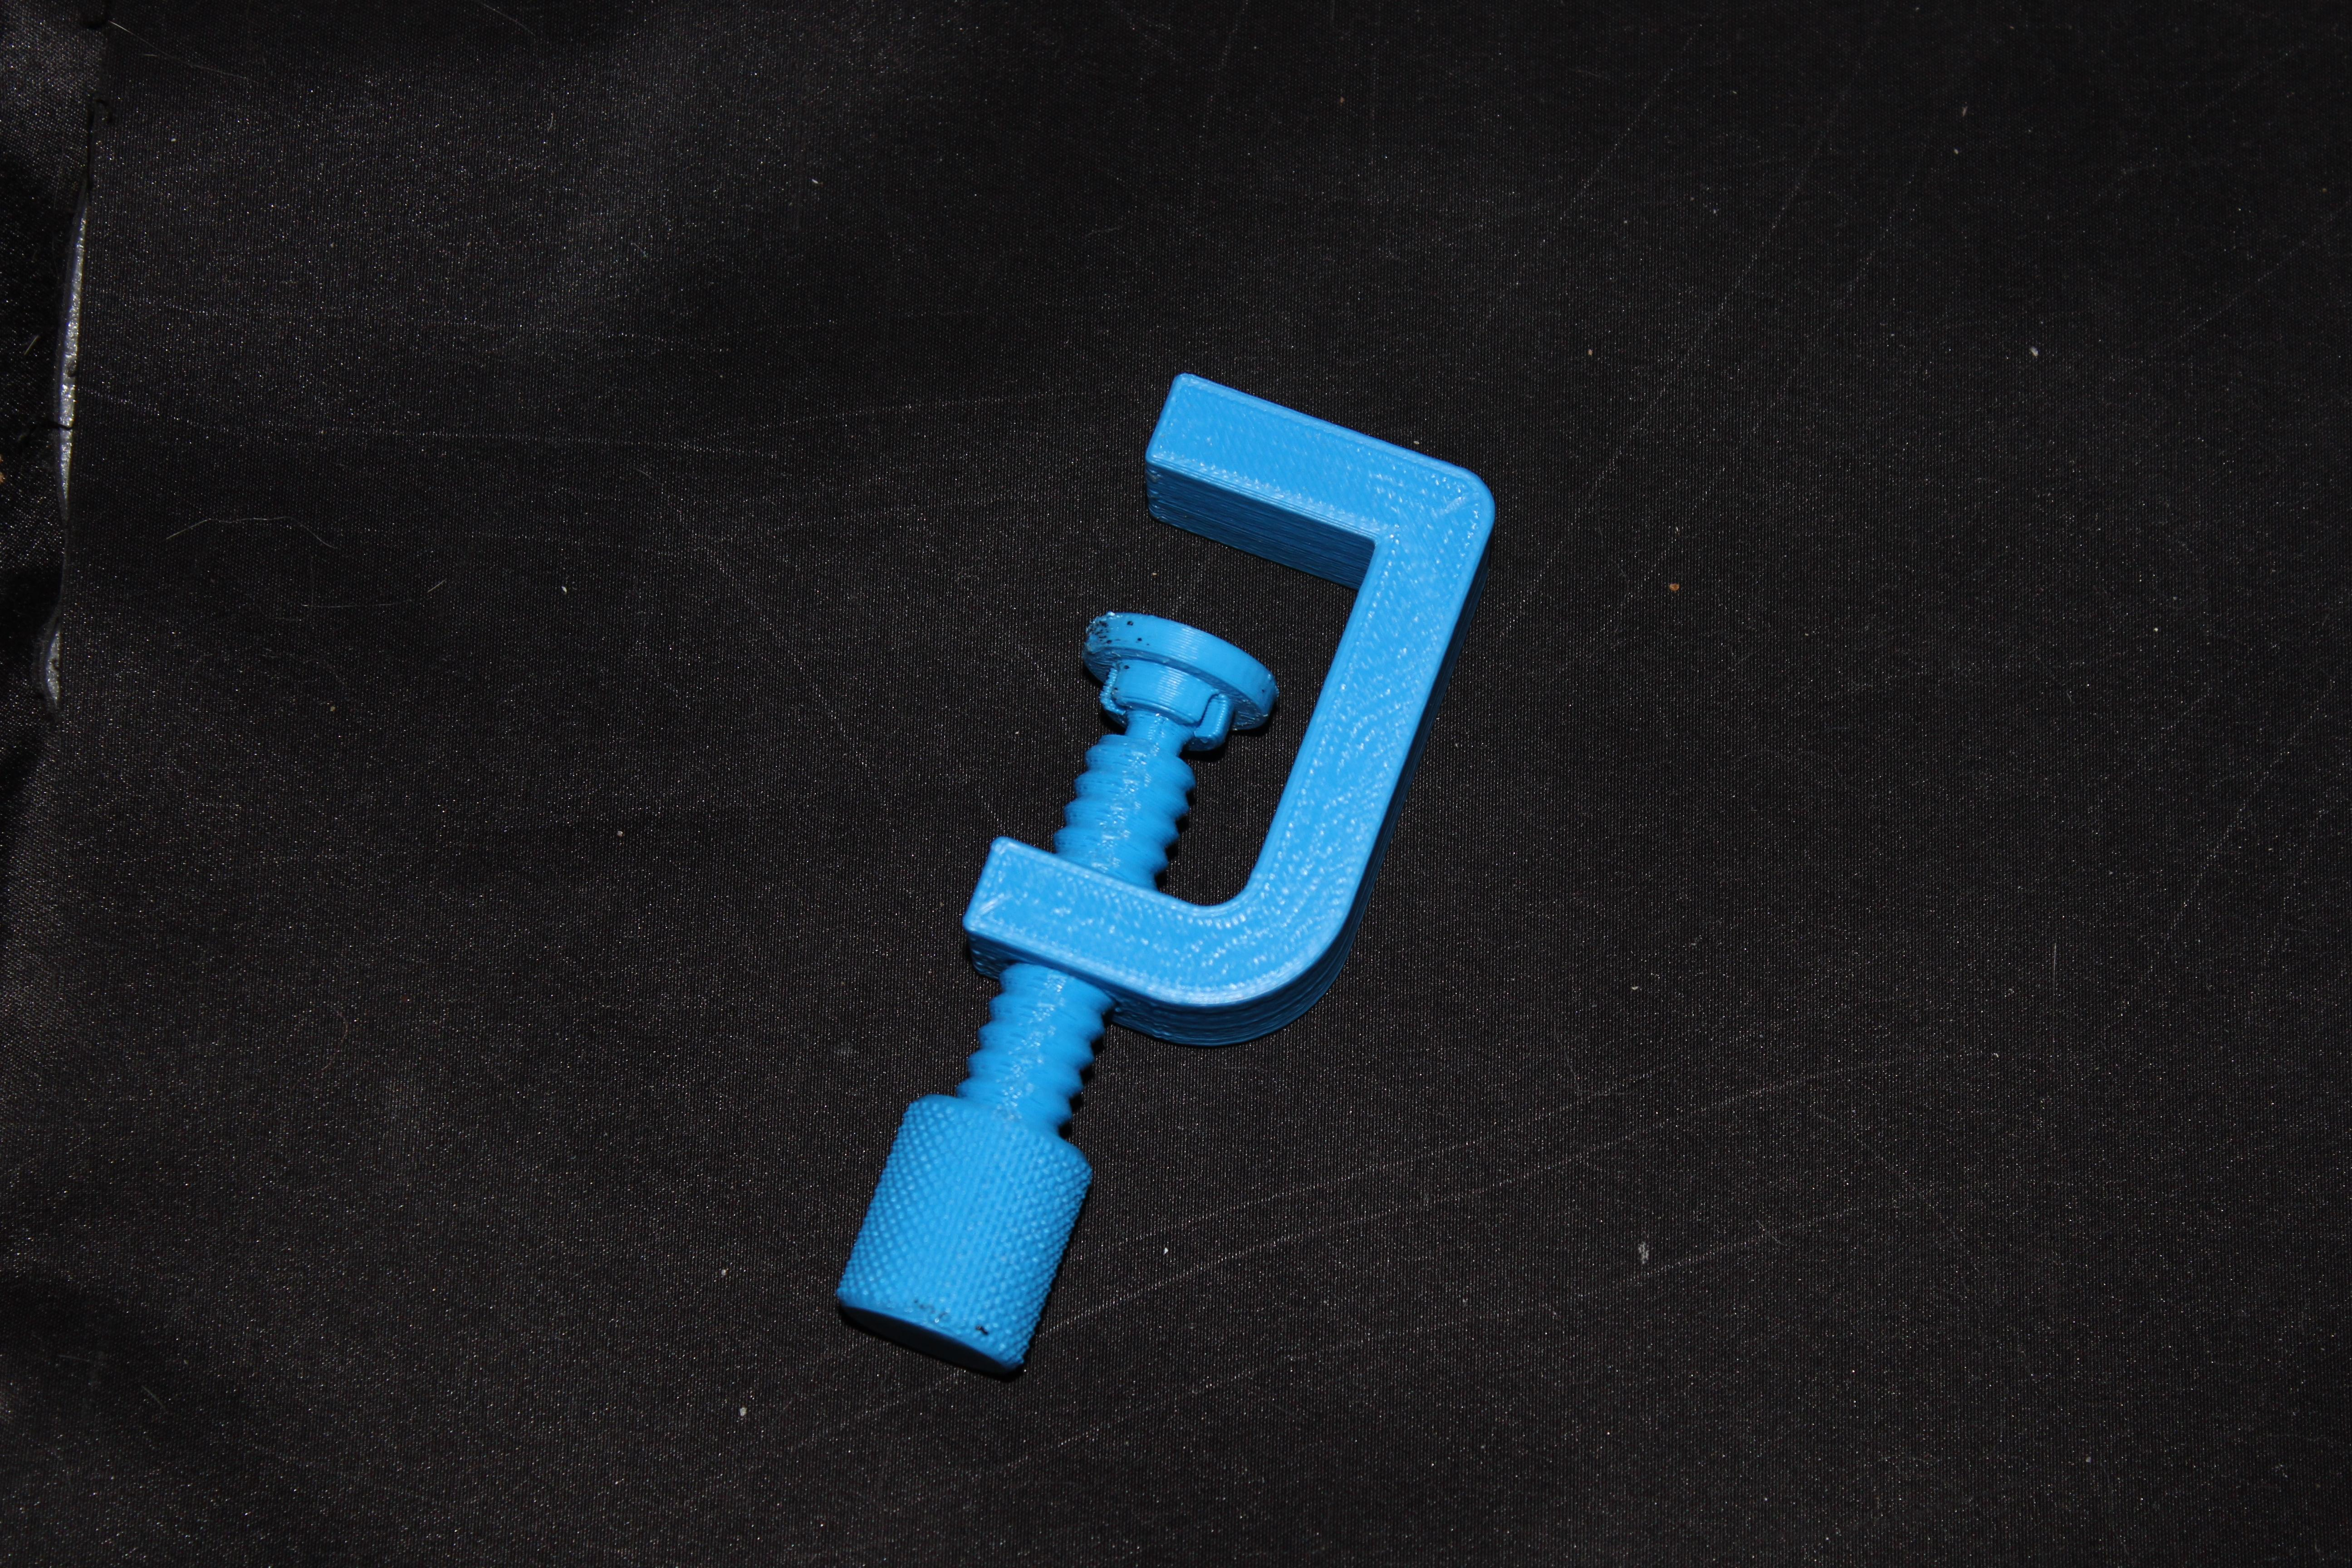gClamp: (802, 331, 1542, 1416)
